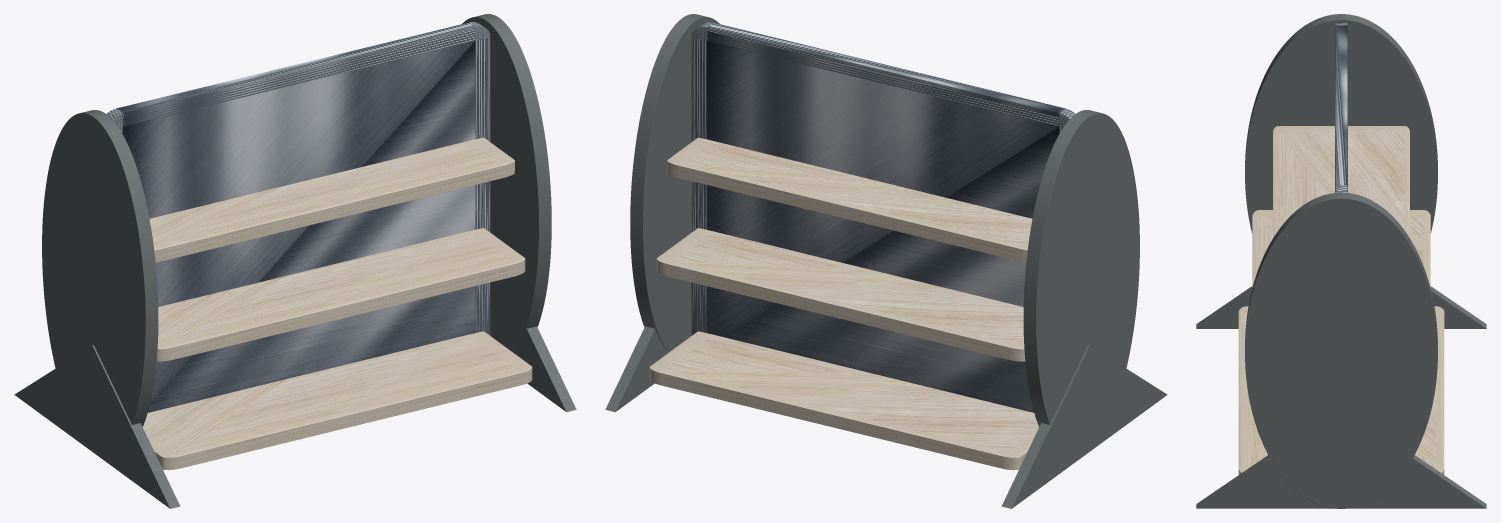
File: Stand3.glb
3 renders of one model, left to right at view 1: azimuth 30°, elevation 25°; view 2: azimuth 150°, elevation 25°; view 3: azimuth 270°, elevation 25°, orthographic. The views are drawn at different scales.
Visible parts, largest first — view 1: Box.001, Circle.001, Box 1.001, Box 2.002, Box 3.001, Circle, Cube.001, Cube; view 2: Box.001, Circle.001, Box 1.001, Box 2.002, Box 3.001, Circle, Cube.001, Cube; view 3: Circle, Circle.001, Box 3.001, Cube, Box 1.001, Box.001, Box 2.002, Cube.001.
Part boxes in pixels (<box>): Box.001: <box>107,22,490,412</box>; Circle.001: <box>42,110,158,426</box>; Box 1.001: <box>143,331,532,470</box>; Box 2.002: <box>156,228,525,361</box>; Box 3.001: <box>149,137,514,262</box>; Circle: <box>462,14,551,352</box>; Cube.001: <box>14,345,180,508</box>; Cube: <box>513,326,576,412</box>; Box.001: <box>691,22,1074,412</box>; Circle.001: <box>1023,110,1139,426</box>; Box 1.001: <box>649,331,1038,470</box>; Box 2.002: <box>656,228,1025,361</box>; Box 3.001: <box>667,137,1032,262</box>; Circle: <box>630,14,719,352</box>; Cube.001: <box>1001,345,1167,508</box>; Cube: <box>605,326,668,412</box>; Circle: <box>1245,192,1437,508</box>; Circle.001: <box>1245,14,1437,233</box>; Box 3.001: <box>1273,126,1409,237</box>; Cube: <box>1196,455,1486,508</box>; Box 1.001: <box>1238,306,1444,474</box>; Box.001: <box>1335,23,1347,192</box>; Box 2.002: <box>1252,210,1430,287</box>; Cube.001: <box>1196,286,1486,328</box>.
Bounding box in the file's own units: 3.19 × 2.5 × 2.12.
5 materials, 4 textured.
